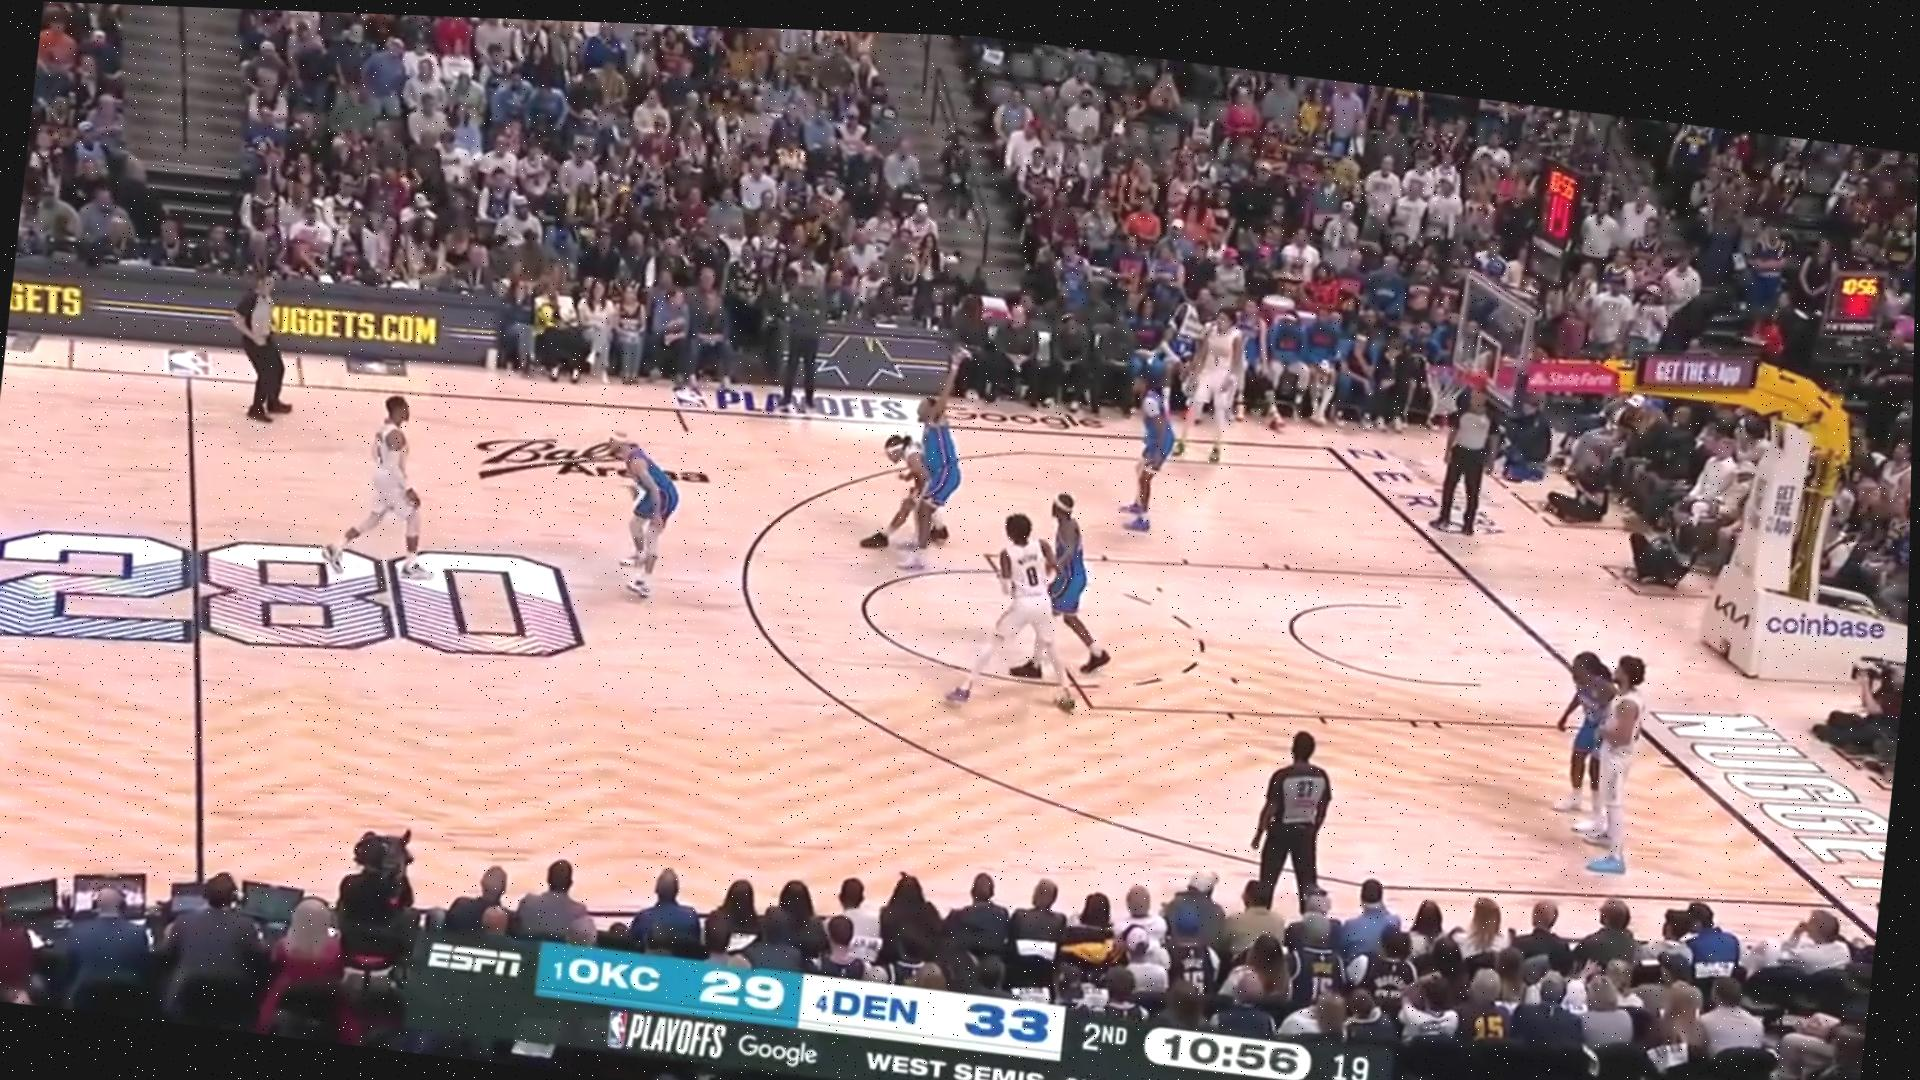foul: (848, 327, 1007, 585)
